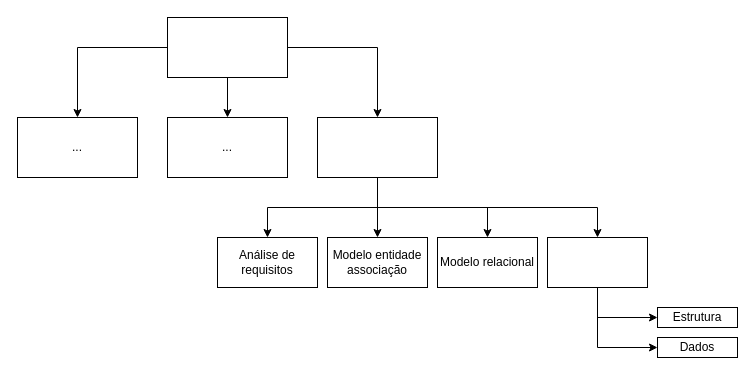
Image size: 755x375. Some labels were removed from this diagram. Here are the shapes that lost their labels. From the top down, the box of each, then its label:
(166, 16, 288, 78): Dynamic Blocks
(316, 116, 438, 178): Componente de dados
(546, 236, 648, 288): Modelo físico
